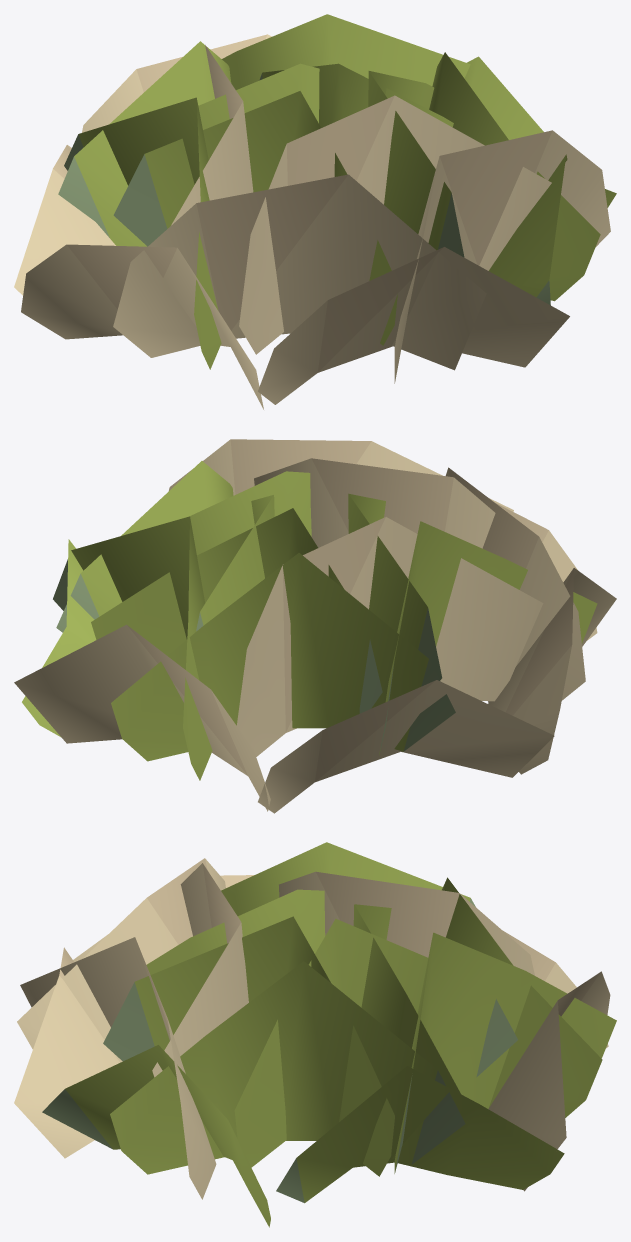
The model's file is itch_assetquest_pond_short_grass_patch_1.glb.
The picture shows the model from 3 angles, top to bottom: view 1: azimuth 30°, elevation 25°; view 2: azimuth 150°, elevation 25°; view 3: azimuth 270°, elevation 25°; orthographic projection. The views are drawn at different scales.
Visible parts, largest first — view 1: Short_Grass_Patch_1; view 2: Short_Grass_Patch_1; view 3: Short_Grass_Patch_1.
Part boxes in pixels (<box>): Short_Grass_Patch_1: <box>14,14,616,409</box>; Short_Grass_Patch_1: <box>14,439,616,813</box>; Short_Grass_Patch_1: <box>14,842,616,1227</box>.
Size of the model in its own units: 0.96 by 0.3746 by 0.9143.
